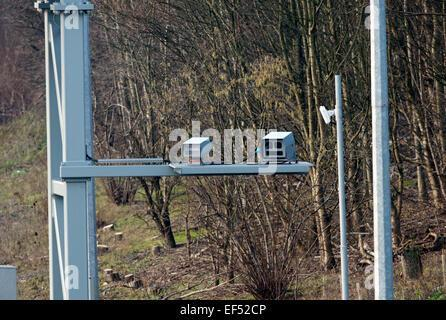Monitor: (250, 121, 314, 172)
